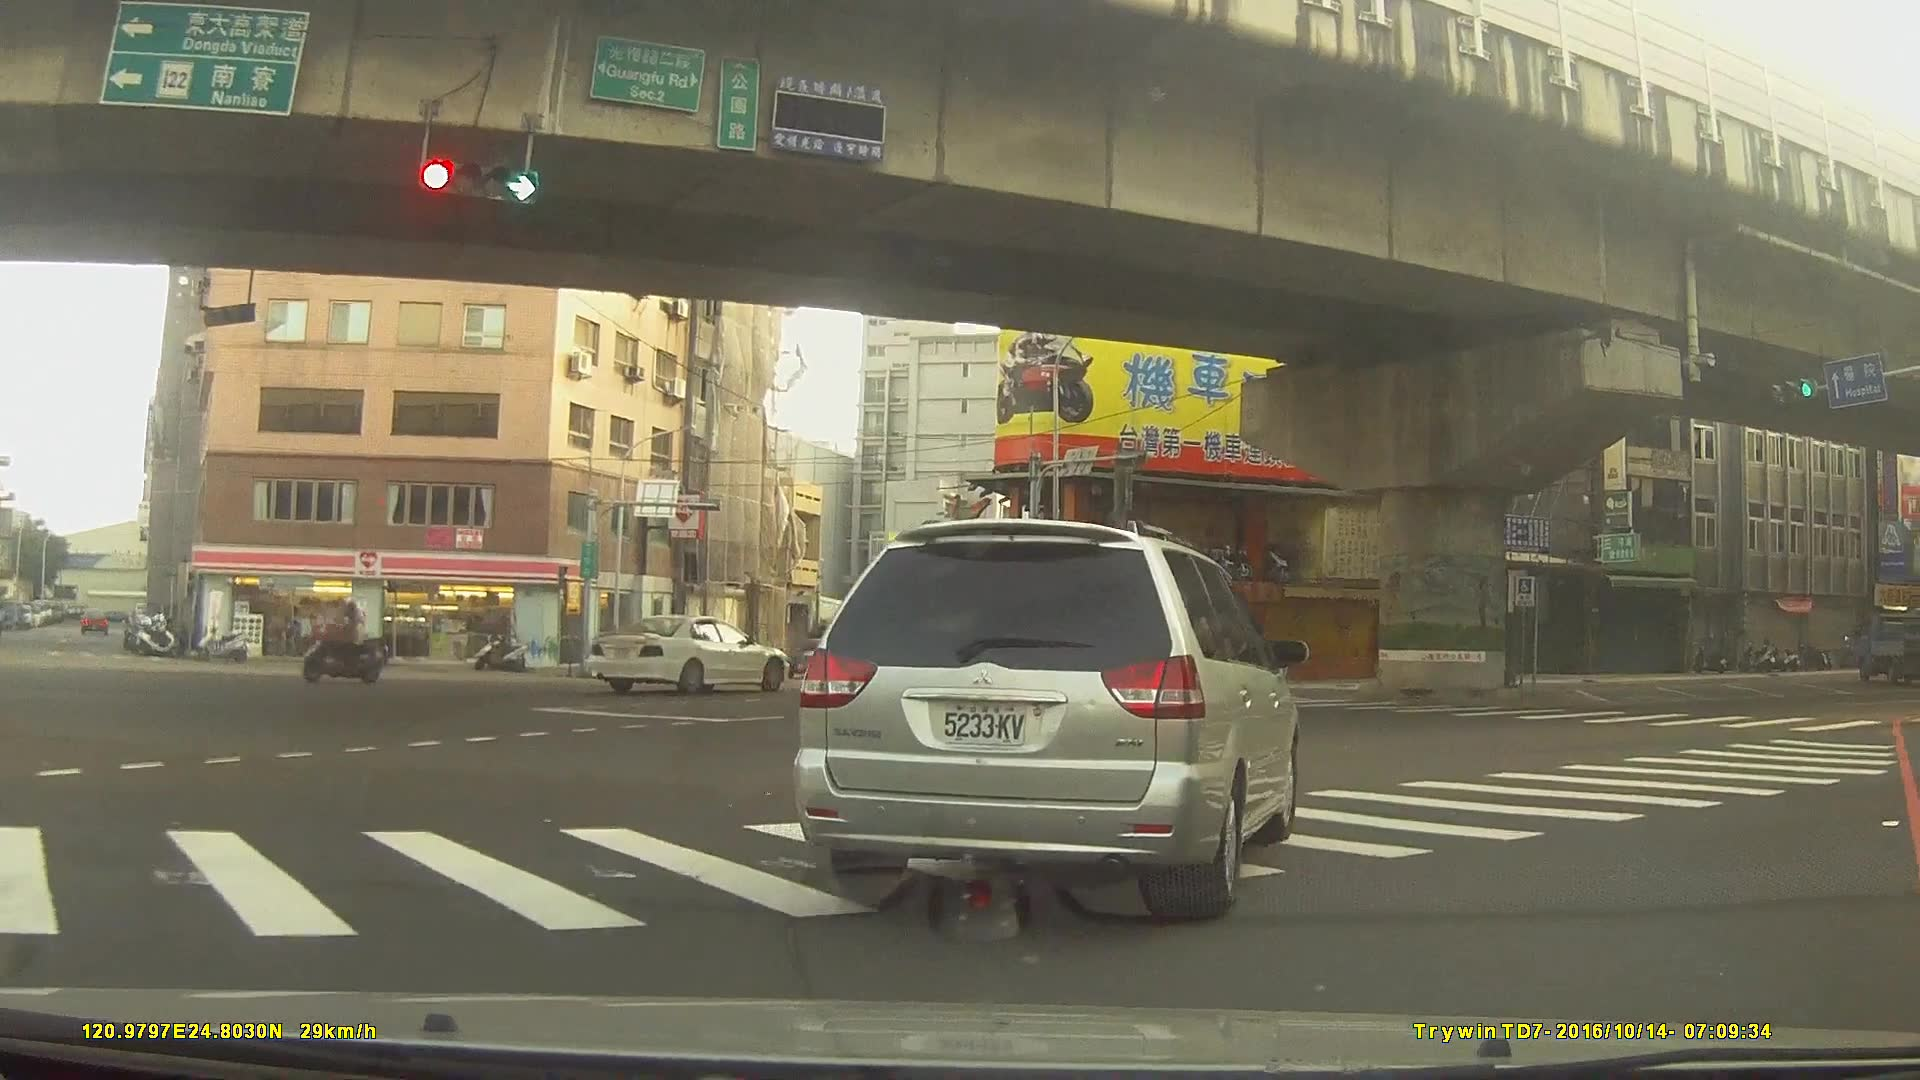rider: (304, 599, 385, 683)
vehicle: (786, 519, 1300, 926), (583, 611, 791, 696), (1849, 613, 1920, 684), (786, 636, 860, 678), (77, 606, 108, 632)
